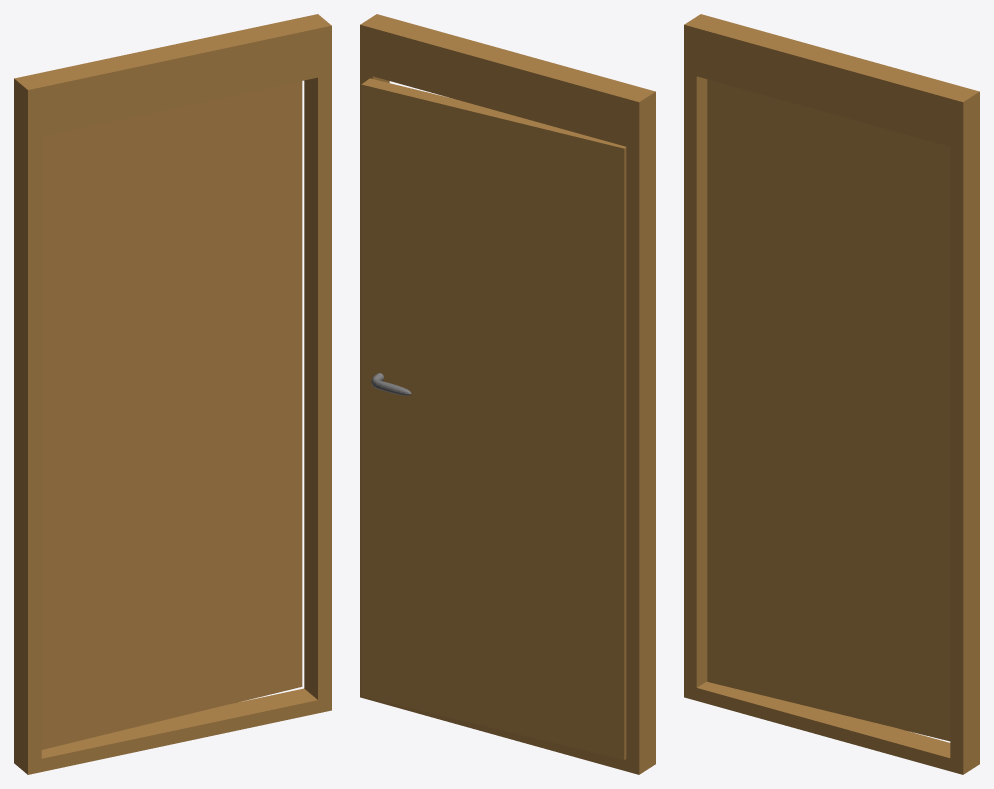
Rendered from Tür.fbx.
3 renders of one model, left to right at view 1: azimuth 30°, elevation 25°; view 2: azimuth 150°, elevation 25°; view 3: azimuth 330°, elevation 25°, orthographic.
Visible parts, largest first — view 1: Rahmen; view 2: Rahmen; view 3: Rahmen.
Part boxes in pixels (x1,y1,x2,y2): Rahmen: (14, 14, 331, 774); Rahmen: (360, 14, 655, 774); Rahmen: (684, 14, 979, 774).
Bounding box in the file's own units: 99.36 × 220 × 22.34.
